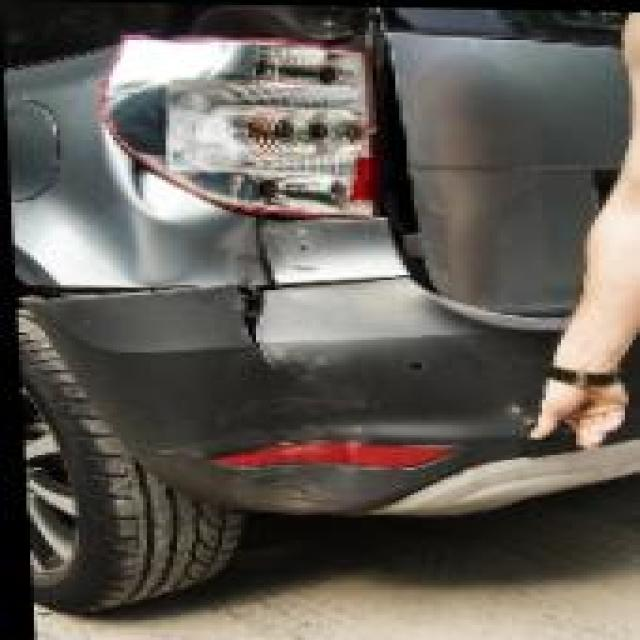Bumper: (26, 278, 608, 511)
Fender: (15, 160, 243, 296)
Light: (113, 35, 407, 214)
